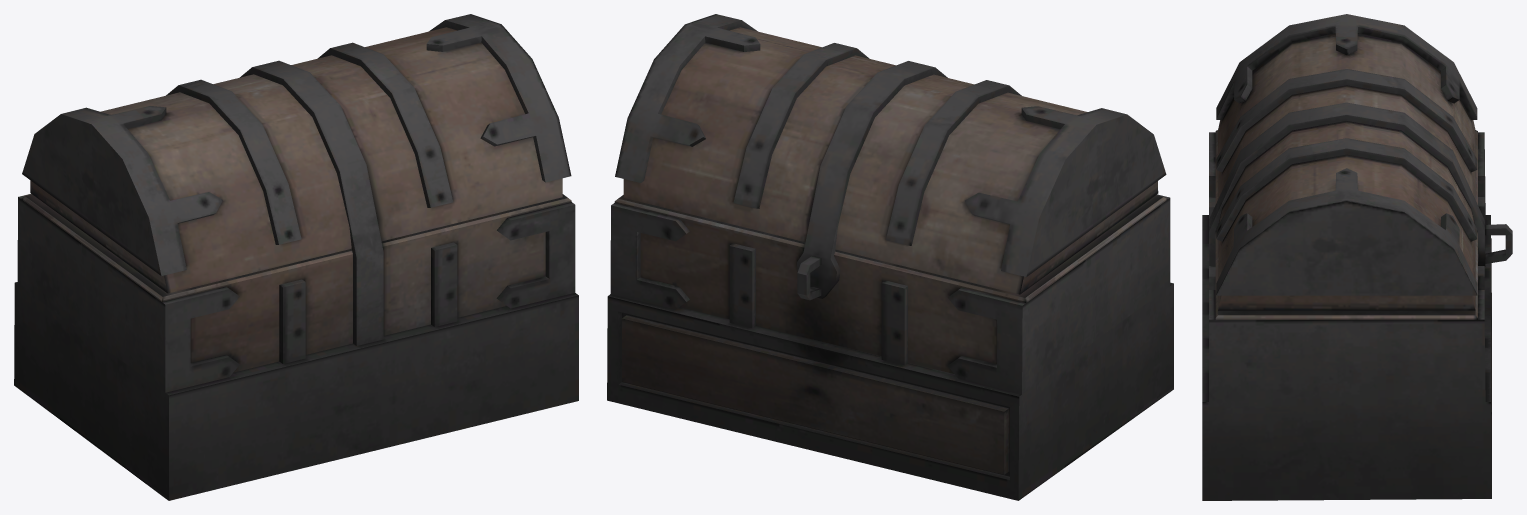
File: merchant_debris_chest001.fbx
3 renders of one model, left to right at view 1: azimuth 30°, elevation 25°; view 2: azimuth 150°, elevation 25°; view 3: azimuth 270°, elevation 25°, orthographic. The views are drawn at different scales.
Parts seen in each view (by area): view 1: merchant_debris_chest001; view 2: merchant_debris_chest001; view 3: merchant_debris_chest001.
Part boxes in pixels (left/top/right/bottom): merchant_debris_chest001: left=14, top=14, right=578, bottom=500; merchant_debris_chest001: left=607, top=14, right=1173, bottom=500; merchant_debris_chest001: left=1202, top=14, right=1512, bottom=500.
Size of the model in its own units: 102 by 76.1 by 71.43.
